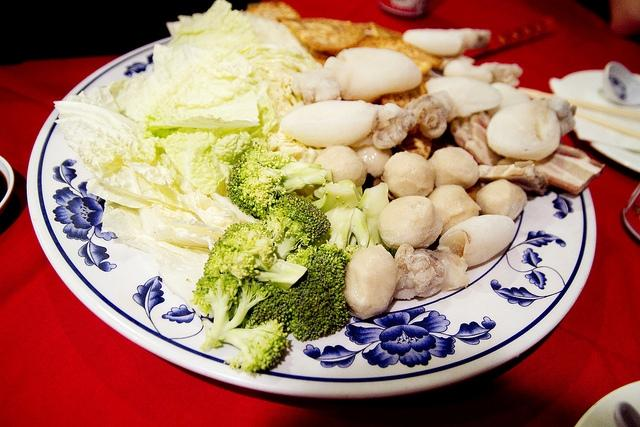broccoli: (188, 272, 290, 374), (226, 142, 327, 219), (204, 222, 307, 290), (288, 250, 352, 342), (266, 191, 332, 260), (233, 285, 296, 332), (311, 180, 363, 214)
